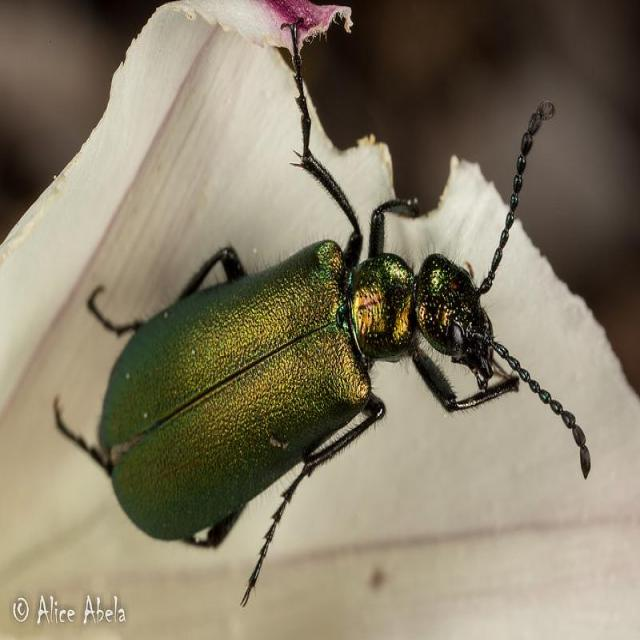BlisterBeetle-Adult-: (39, 70, 606, 560)
